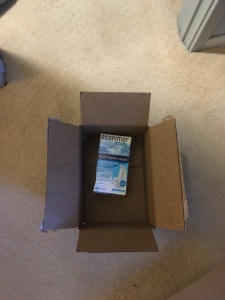innerbox: (79, 124, 157, 229)
outerbox: (46, 92, 185, 250)
product: (93, 134, 127, 195)
